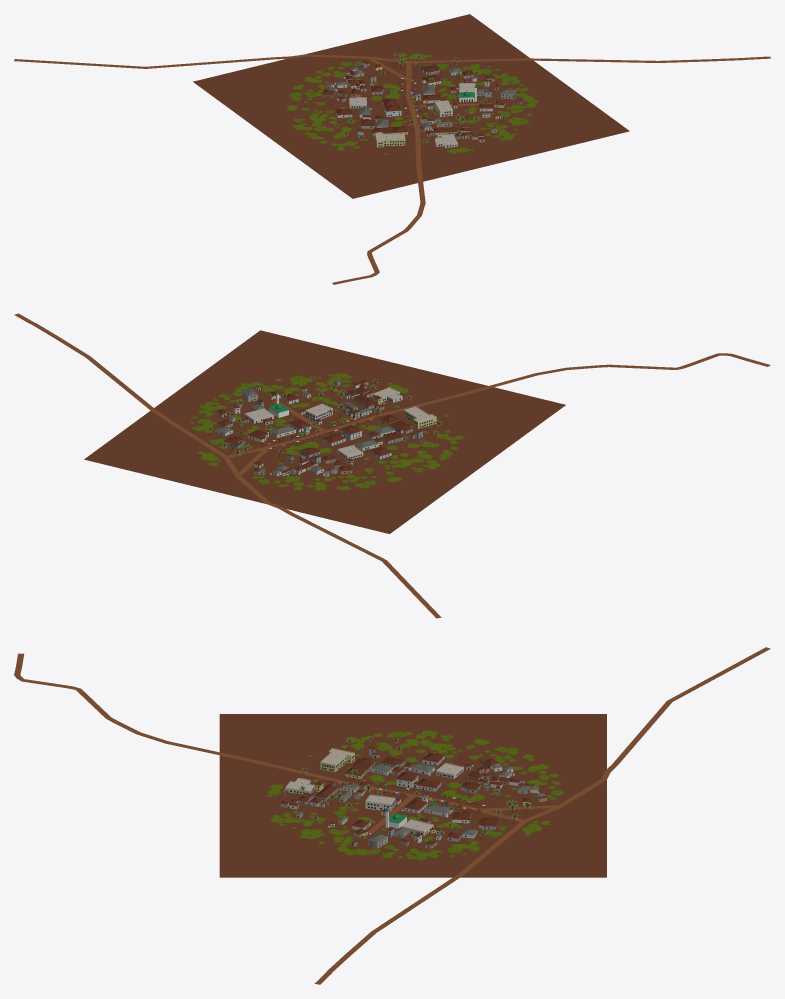
The model's file is voinjama.v1.glb.
3 renders of one model, top to bottom at view 1: azimuth 30°, elevation 25°; view 2: azimuth 150°, elevation 25°; view 3: azimuth 270°, elevation 25°, orthographic. The views are drawn at different scales.
Visible parts, largest first — view 1: ground; view 2: ground; view 3: ground.
Boxes of the visible parts, box(x1,y1,x2,y2) form: ground: box(14, 14, 770, 284); ground: box(14, 313, 770, 618); ground: box(14, 647, 770, 984).
Bounding box in the file's own units: 697 × 19.5 × 661.
Materials: 80 (33 with a texture image).
